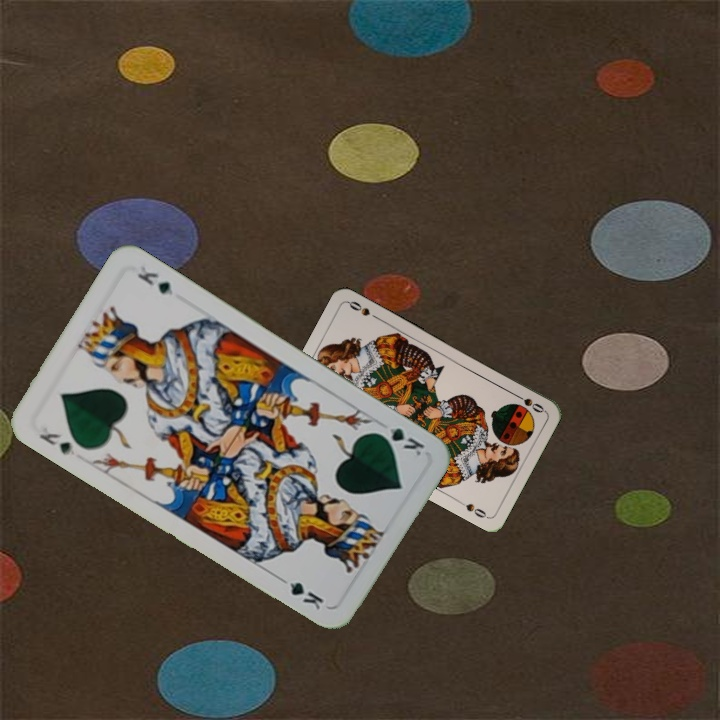GK: (371, 423, 428, 459), (35, 428, 78, 459)
SO: (509, 389, 547, 416)
